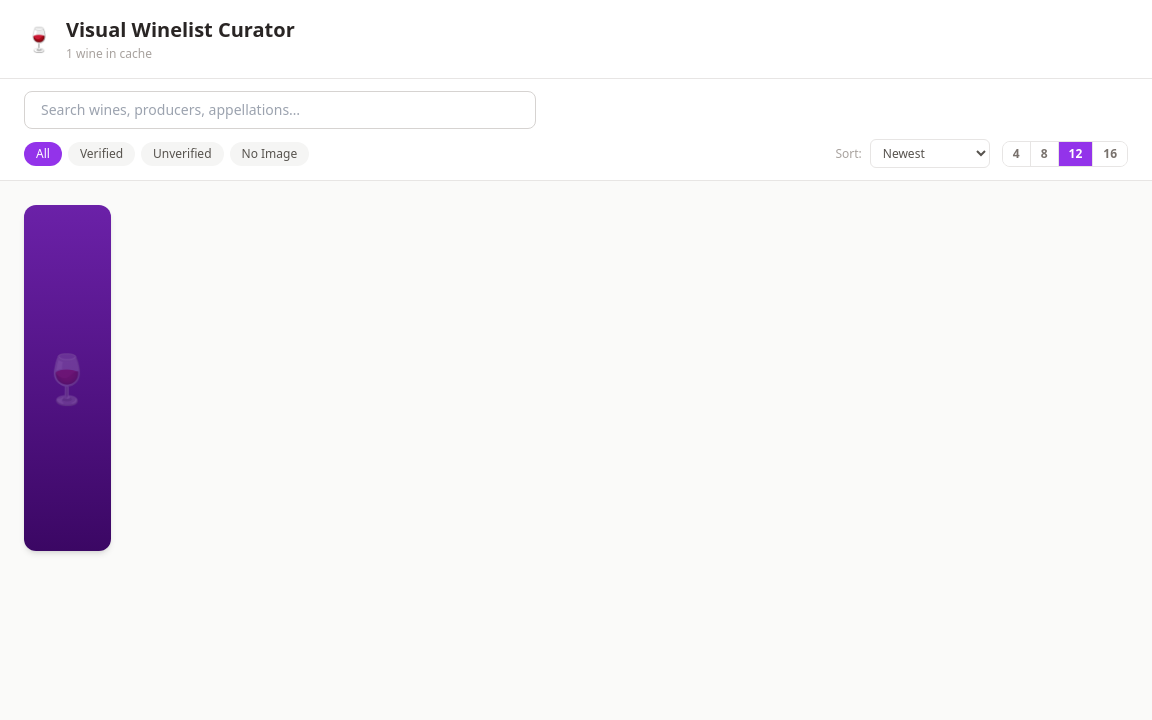
handleVerify increments verified_total when marking unverified wine as verified
This screenshot has width=1152, height=720.
Click the button named "Test Wine".
click(67, 378)  # box left=24, top=205, right=110, bottom=551
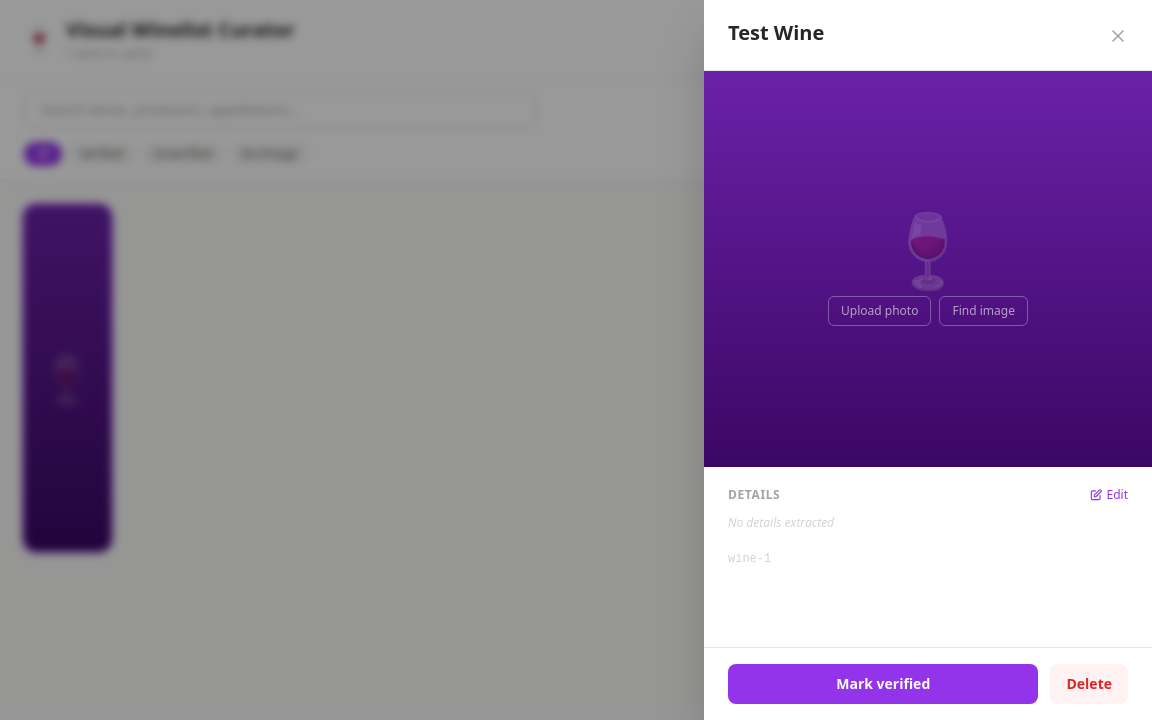
Click the button "Mark verified".
click(883, 684)  # box left=728, top=664, right=1038, bottom=704
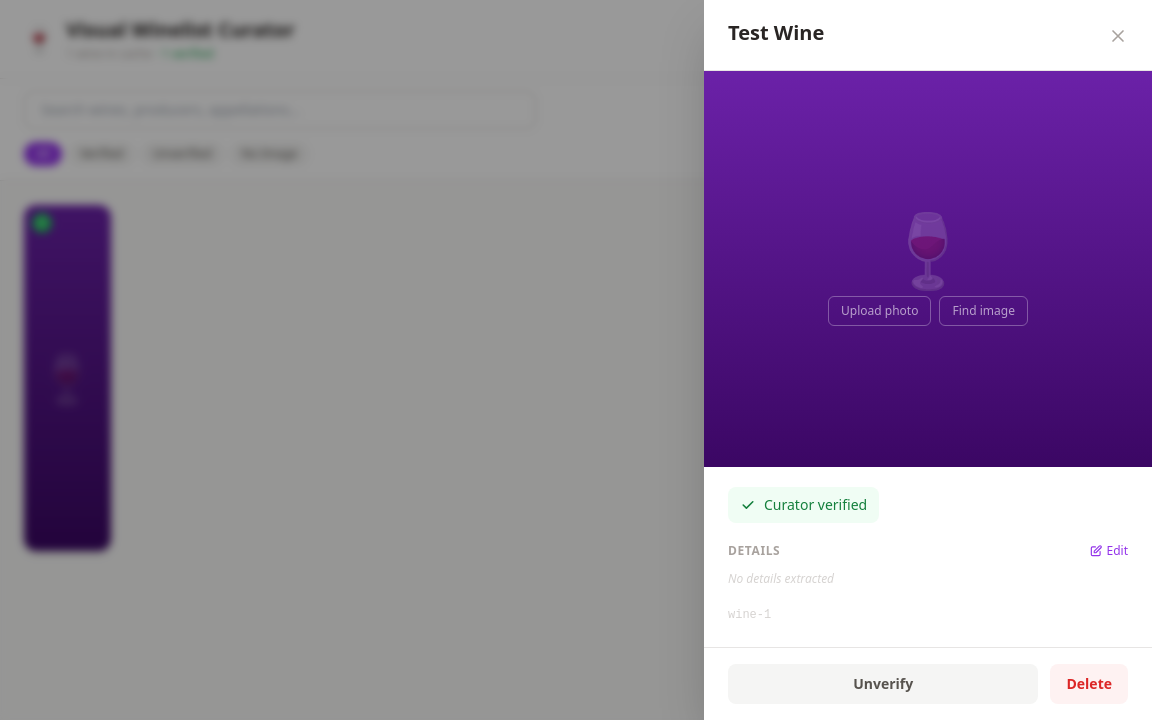
Now the text "· 1 verified" is shown, box left=152, top=45, right=214, bottom=62
